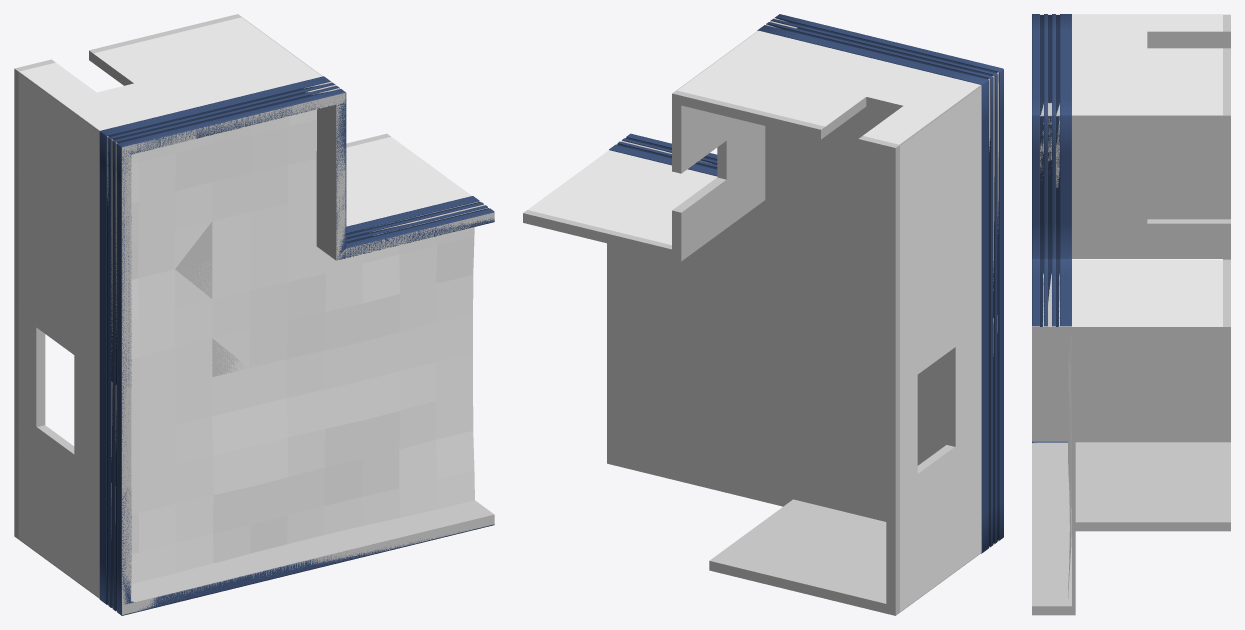
File: bld_office_wing_ext.glb
3 views of the same model, side by side, from view 1: azimuth 30°, elevation 25°; view 2: azimuth 150°, elevation 25°; view 3: azimuth 270°, elevation 25° (orthographic). The views are drawn at different scales.
Visible parts, largest first — view 1: g_bld_office_wing_ext, c_bld_office_wing_ext_015, c_bld_office_wing_ext_002, c_bld_office_wing_ext_001, c_bld_office_wing_ext_007, c_bld_office_wing_ext_008, c_bld_office_wing_ext_010, c_bld_office_wing_ext_014, c_bld_office_wing_ext_012, c_bld_office_wing_ext_003, c_bld_office_wing_ext_009, c_bld_office_wing_ext_004 (+2 smaller); view 2: c_bld_office_wing_ext_012, g_bld_office_wing_ext, c_bld_office_wing_ext_001, c_bld_office_wing_ext_011, c_bld_office_wing_ext_009, c_bld_office_wing_ext_002, c_bld_office_wing_ext_014, c_bld_office_wing_ext_007, c_bld_office_wing_ext_008, c_bld_office_wing_ext_010, c_bld_office_wing_ext_013, c_bld_office_wing_ext_003 (+1 smaller); view 3: g_bld_office_wing_ext, c_bld_office_wing_ext_010, c_bld_office_wing_ext_001, c_bld_office_wing_ext_014, c_bld_office_wing_ext_009, c_bld_office_wing_ext_015, c_bld_office_wing_ext_002, c_bld_office_wing_ext_013, c_bld_office_wing_ext_008, c_bld_office_wing_ext_007, c_bld_office_wing_ext_012, c_bld_office_wing_ext_005.
Boxes of the visible parts, <box> form: g_bld_office_wing_ext: <box>18,17,494,615</box>; c_bld_office_wing_ext_015: <box>287,500,494,564</box>; c_bld_office_wing_ext_002: <box>14,67,131,388</box>; c_bld_office_wing_ext_001: <box>14,527,308,614</box>; c_bld_office_wing_ext_007: <box>89,14,345,138</box>; c_bld_office_wing_ext_008: <box>345,133,494,258</box>; c_bld_office_wing_ext_010: <box>14,412,131,614</box>; c_bld_office_wing_ext_014: <box>316,102,345,172</box>; c_bld_office_wing_ext_012: <box>175,260,243,376</box>; c_bld_office_wing_ext_003: <box>14,310,45,426</box>; c_bld_office_wing_ext_009: <box>316,198,345,260</box>; c_bld_office_wing_ext_004: <box>111,381,131,490</box>; c_bld_office_wing_ext_012: <box>607,190,946,521</box>; g_bld_office_wing_ext: <box>528,14,1003,611</box>; c_bld_office_wing_ext_001: <box>709,499,998,615</box>; c_bld_office_wing_ext_011: <box>756,30,893,219</box>; c_bld_office_wing_ext_009: <box>672,151,765,261</box>; c_bld_office_wing_ext_002: <box>886,72,998,389</box>; c_bld_office_wing_ext_014: <box>672,94,750,173</box>; c_bld_office_wing_ext_007: <box>672,18,866,139</box>; c_bld_office_wing_ext_008: <box>523,140,711,258</box>; c_bld_office_wing_ext_010: <box>886,445,954,613</box>; c_bld_office_wing_ext_013: <box>717,122,765,179</box>; c_bld_office_wing_ext_003: <box>886,387,899,490</box>; g_bld_office_wing_ext: <box>1032,14,1222,598</box>; c_bld_office_wing_ext_010: <box>1032,336,1230,442</box>; c_bld_office_wing_ext_001: <box>1032,442,1230,531</box>; c_bld_office_wing_ext_014: <box>1040,115,1230,187</box>; c_bld_office_wing_ext_009: <box>1072,219,1230,259</box>; c_bld_office_wing_ext_015: <box>1032,522,1071,615</box>; c_bld_office_wing_ext_002: <box>1040,14,1230,219</box>; c_bld_office_wing_ext_013: <box>1072,187,1147,223</box>; c_bld_office_wing_ext_008: <box>1032,259,1230,335</box>; c_bld_office_wing_ext_007: <box>1040,48,1230,124</box>; c_bld_office_wing_ext_012: <box>1072,336,1075,615</box>; c_bld_office_wing_ext_005: <box>1147,16,1230,40</box>.
Bounding box in the file's own units: 10.02 × 12.04 × 5.
